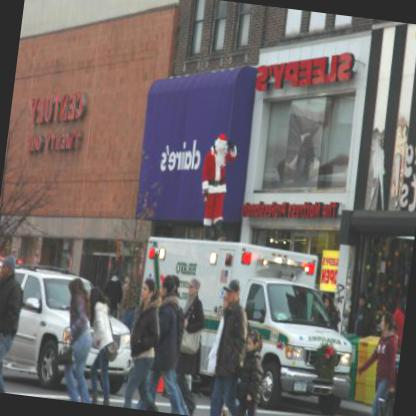truck: (129, 231, 367, 415)
